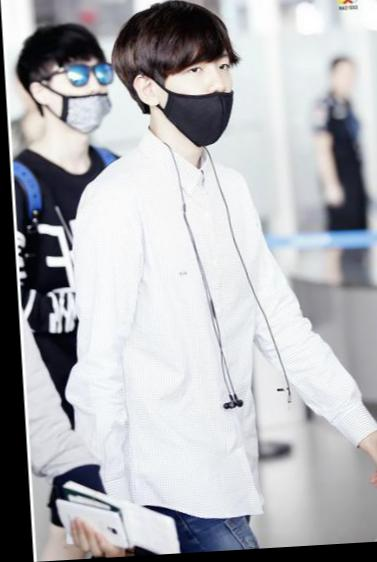WRONG: (158, 46, 235, 150), (33, 61, 112, 136)
